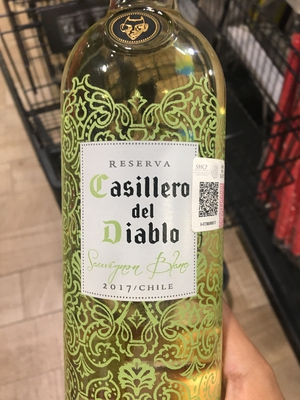casillero del diablo sauvignon blanc: (50, 14, 243, 399)
